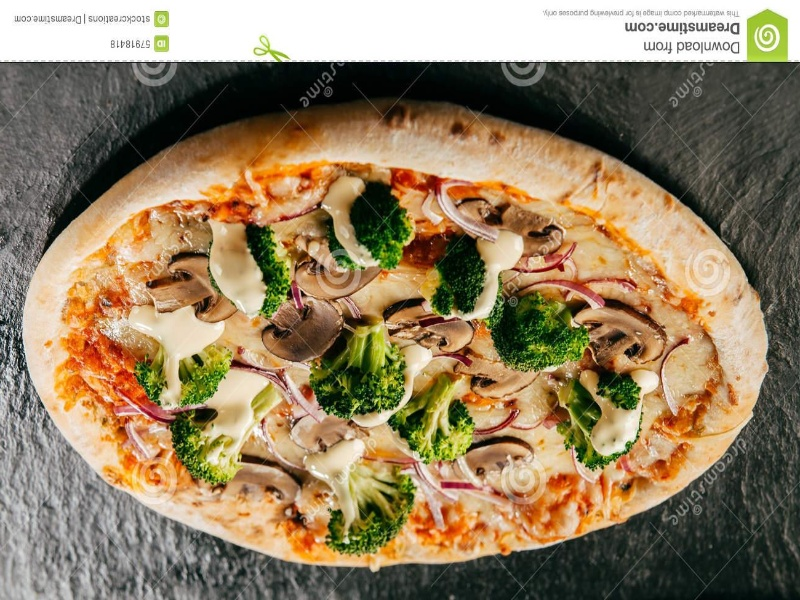champignon: (454, 191, 573, 258), (142, 249, 241, 328), (377, 297, 479, 368), (252, 298, 346, 366), (572, 305, 670, 368), (224, 460, 308, 517), (448, 435, 546, 482)
